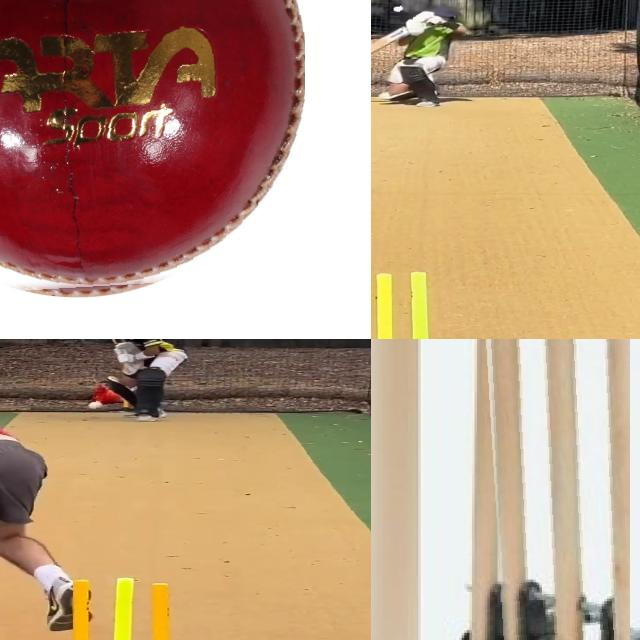Cricket ball: (0, 0, 304, 299), (87, 401, 103, 410), (391, 5, 405, 14)
Stumps: (471, 339, 630, 640), (55, 577, 187, 640), (371, 268, 446, 339)
